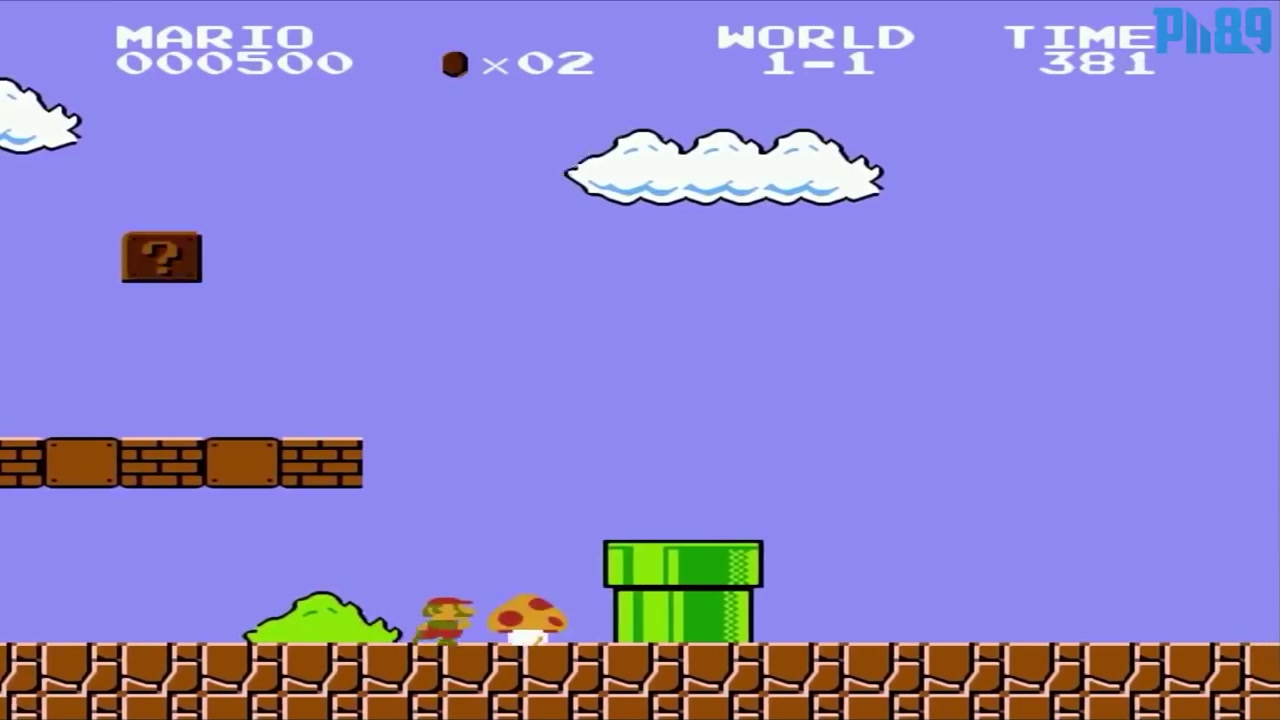mario: (406, 586, 482, 643)
